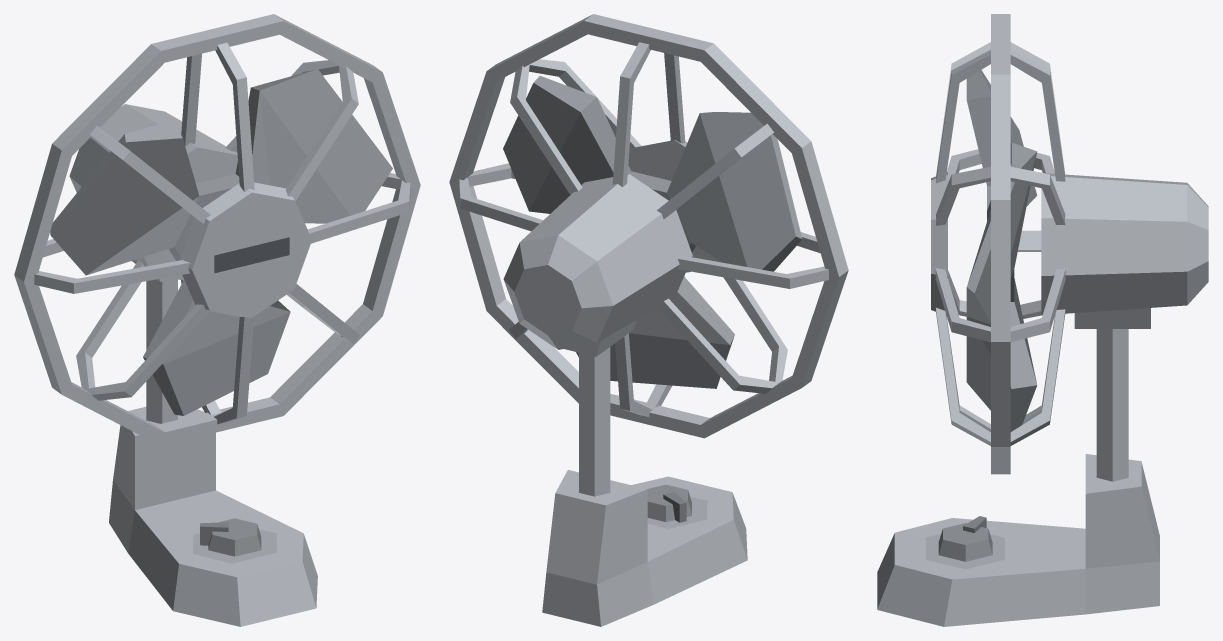
The model's file is Fan_Desk.fbx.
The picture shows the model from 3 angles, left to right: view 1: azimuth 30°, elevation 25°; view 2: azimuth 150°, elevation 25°; view 3: azimuth 270°, elevation 25°; orthographic projection. The views are drawn at different scales.
Visible parts, largest first — view 1: Fan_Desk; view 2: Fan_Desk; view 3: Fan_Desk.
Part boxes in pixels (<box>): Fan_Desk: <box>14,14,420,626</box>; Fan_Desk: <box>449,14,848,626</box>; Fan_Desk: <box>877,14,1208,626</box>.
Size of the model in its own units: 67.11 by 87.34 by 48.
1 material, 1 textured.
